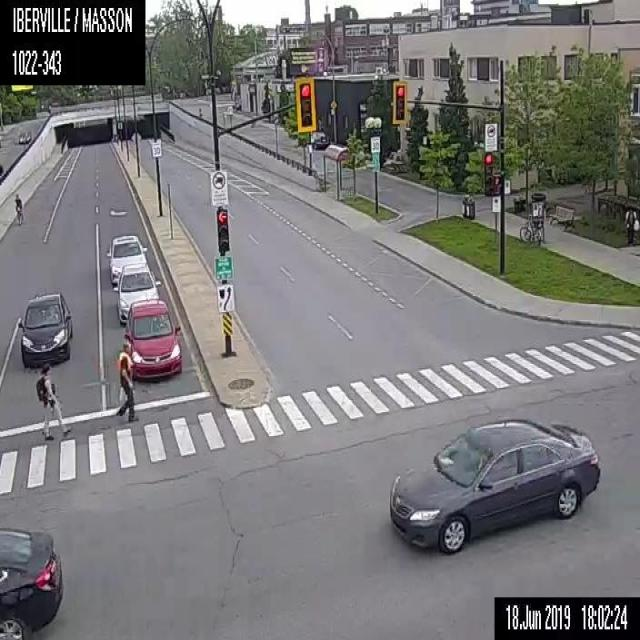pedestrian: (34, 363, 72, 440), (114, 342, 134, 422), (624, 204, 638, 245), (12, 191, 24, 225)
vehicle: (387, 414, 601, 554), (0, 521, 63, 639), (122, 296, 181, 381), (17, 289, 72, 368), (112, 262, 161, 324), (104, 232, 147, 284), (309, 129, 330, 150), (17, 128, 31, 143)
